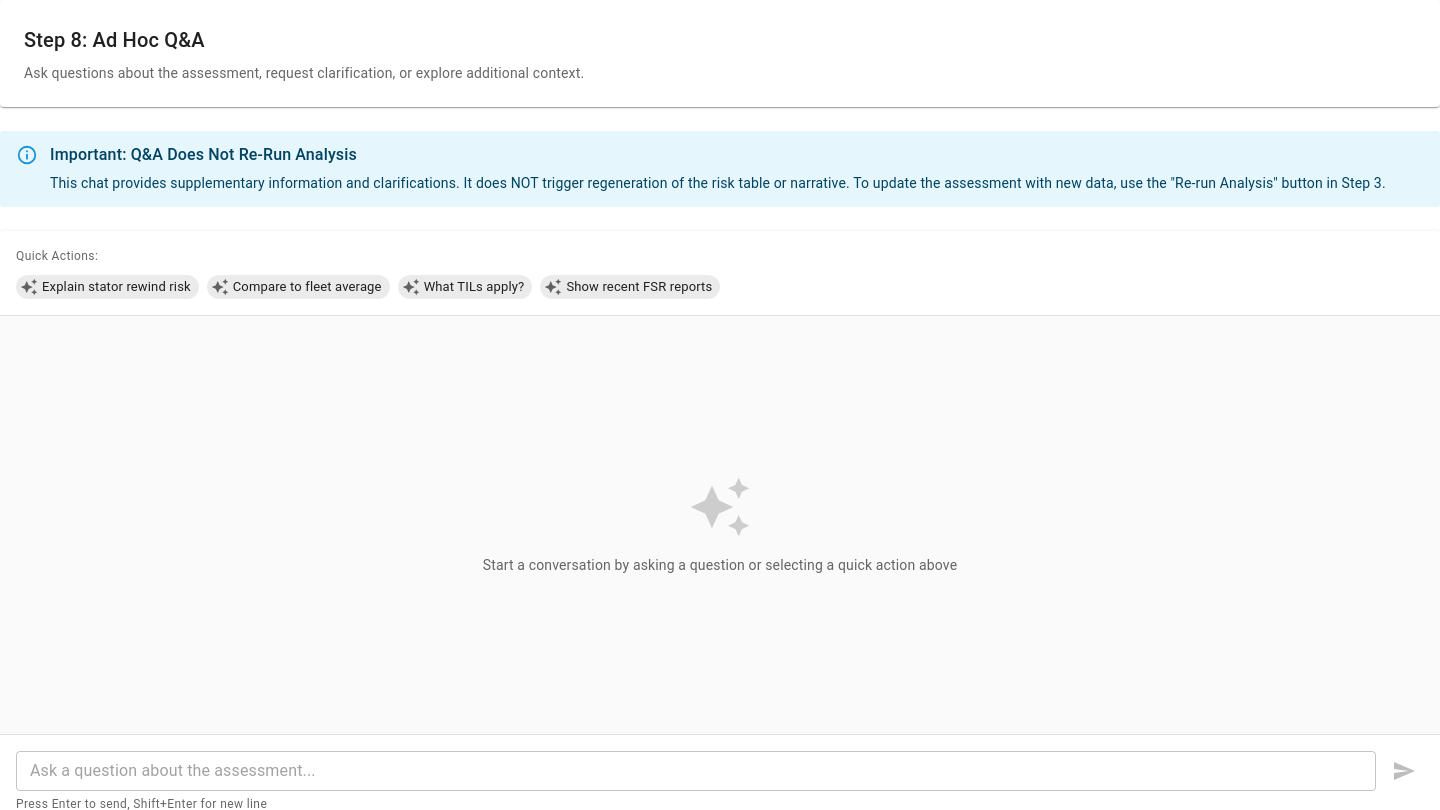
Test case: ReliabilityChatPanel › sends a message and renders the assistant reply
Type "What is the stator risk?" into the text box with placeholder "Ask a question about the assessment..." at {"x": 696, "y": 771}, box top-left (30, 759), bottom-right (1362, 782)
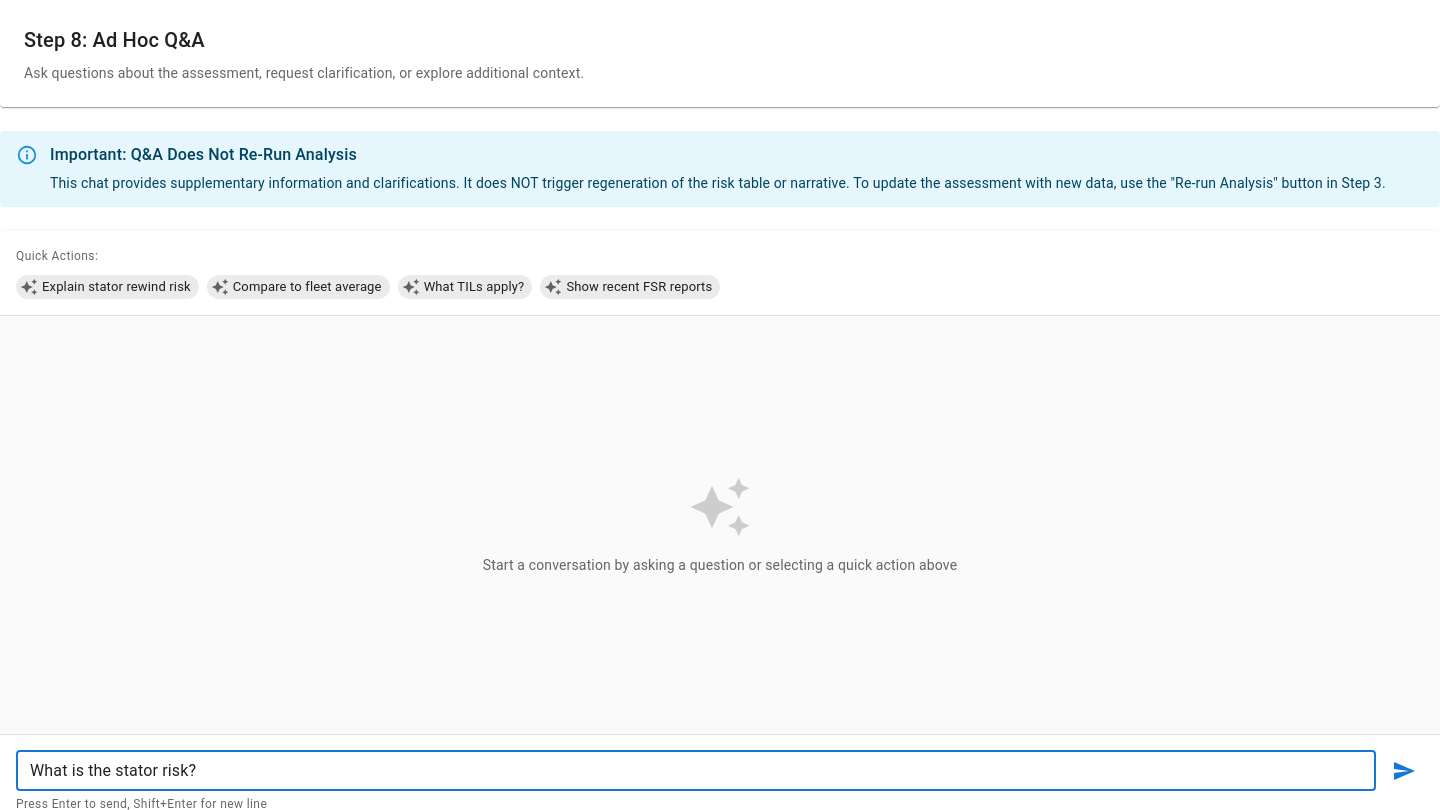
Click the button with test id "SendIcon" at {"x": 1404, "y": 771}, box top-left (1384, 751), bottom-right (1424, 791)
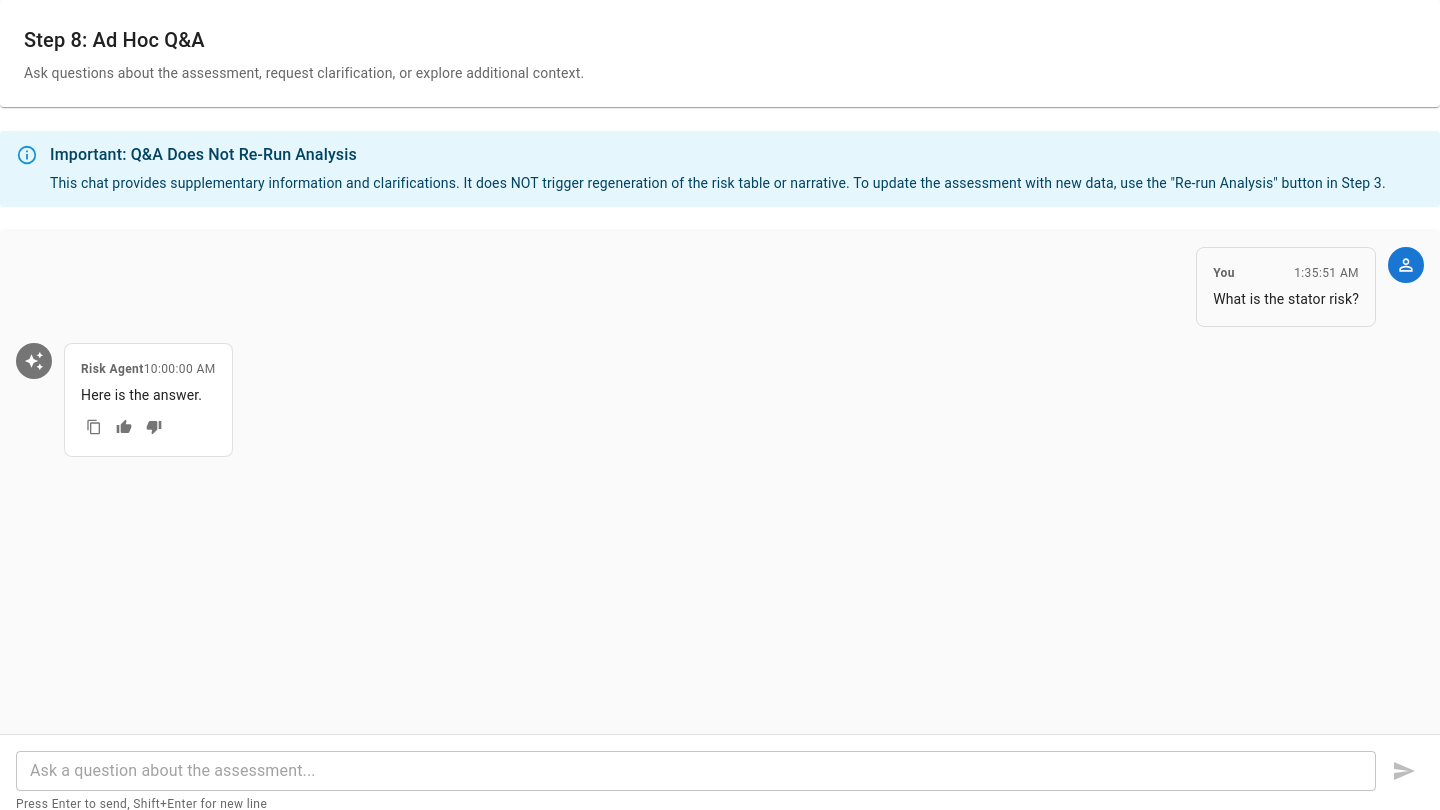
Now the text "What is the stator risk?" is shown, box top-left (1213, 288), bottom-right (1359, 310)
Now the text "Here is the answer." is shown, box top-left (81, 384), bottom-right (216, 406)
